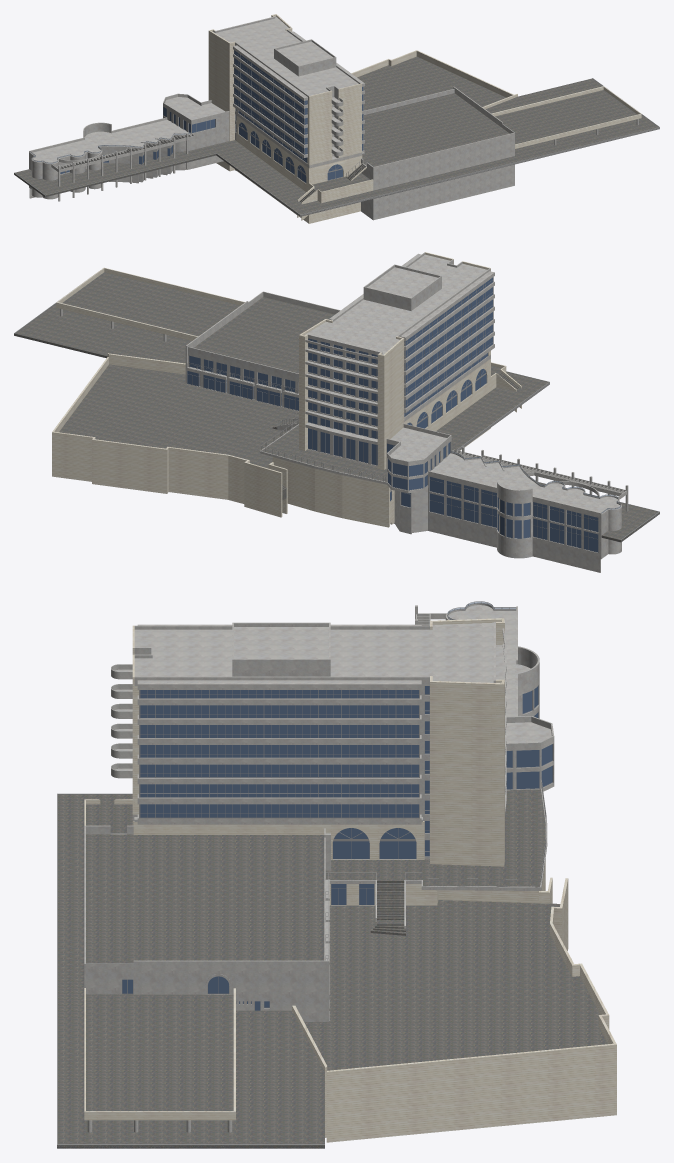
File: background_residential_building_04.glb
3 renders of one model, top to bottom at view 1: azimuth 30°, elevation 25°; view 2: azimuth 150°, elevation 25°; view 3: azimuth 270°, elevation 25°, orthographic. The views are drawn at different scales.
Visible parts, largest first — view 1: Line166, Rectangle067, Rectangle097, Line144, Rectangle135, Line141, Rectangle001, Line142, Line003, Line016, Rectangle004, Line168 (+21 smaller); view 2: Line144, Line122, Line166, Rectangle135, Line141, Rectangle097, Line112, Line142, Line003, Rectangle063, Rectangle081, Rectangle076 (+25 smaller); view 3: Line144, Rectangle097, Line166, Line122, Rectangle135, Line141, Line004, Rectangle089, Line129, FixedWindow038, FixedWindow020, FixedWindow032 (+29 smaller).
Boxes of the visible parts, bbox=[...] form: Line166: bbox=[14, 78, 659, 216]; Rectangle067: bbox=[373, 132, 514, 220]; Rectangle097: bbox=[362, 93, 509, 166]; Line144: bbox=[357, 56, 505, 110]; Rectangle135: bbox=[495, 90, 636, 144]; Line141: bbox=[212, 16, 362, 98]; Rectangle001: bbox=[309, 83, 361, 165]; Line142: bbox=[32, 119, 189, 163]; Line003: bbox=[208, 29, 235, 171]; Line016: bbox=[29, 138, 167, 199]; Rectangle004: bbox=[236, 115, 308, 223]; Line168: bbox=[14, 78, 659, 216]; Line144: bbox=[59, 364, 298, 468]; Line122: bbox=[52, 357, 282, 517]; Line166: bbox=[14, 303, 659, 542]; Rectangle135: bbox=[62, 272, 240, 336]; Line141: bbox=[304, 254, 491, 354]; Rectangle097: bbox=[194, 297, 334, 373]; Line112: bbox=[272, 457, 394, 527]; Line142: bbox=[431, 453, 620, 512]; Line003: bbox=[377, 336, 404, 469]; Rectangle063: bbox=[306, 334, 382, 465]; Rectangle081: bbox=[428, 471, 496, 547]; Rectangle076: bbox=[532, 496, 601, 572]; Line144: bbox=[304, 900, 607, 1070]; Rectangle097: bbox=[86, 834, 324, 963]; Line166: bbox=[57, 794, 324, 1148]; Line122: bbox=[326, 878, 616, 1142]; Rectangle135: bbox=[86, 994, 233, 1110]; Line141: bbox=[134, 622, 493, 682]; Line004: bbox=[430, 676, 504, 866]; Rectangle089: bbox=[133, 960, 329, 1021]; Line129: bbox=[325, 789, 545, 886]; FixedWindow038: bbox=[139, 804, 419, 818]; FixedWindow020: bbox=[139, 784, 419, 797]; FixedWindow032: bbox=[139, 705, 419, 718].
Size of the model in its own units: 157 by 40.06 by 71.75.
9 materials, 3 textured.
